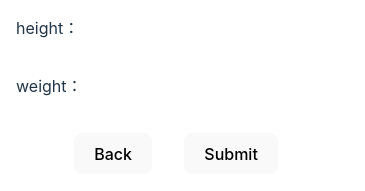
test wizard form › fail for step2 empty
Click the button "Submit" at (231, 154), box [184,133,278,174]
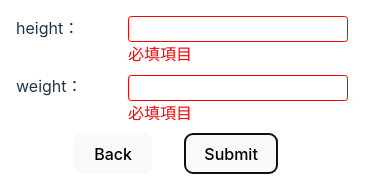
Expected: the text with test id "height-error" is shown, [128,42,192,66]
Expected: the text with test id "weight-error" is shown, [128,101,192,125]
